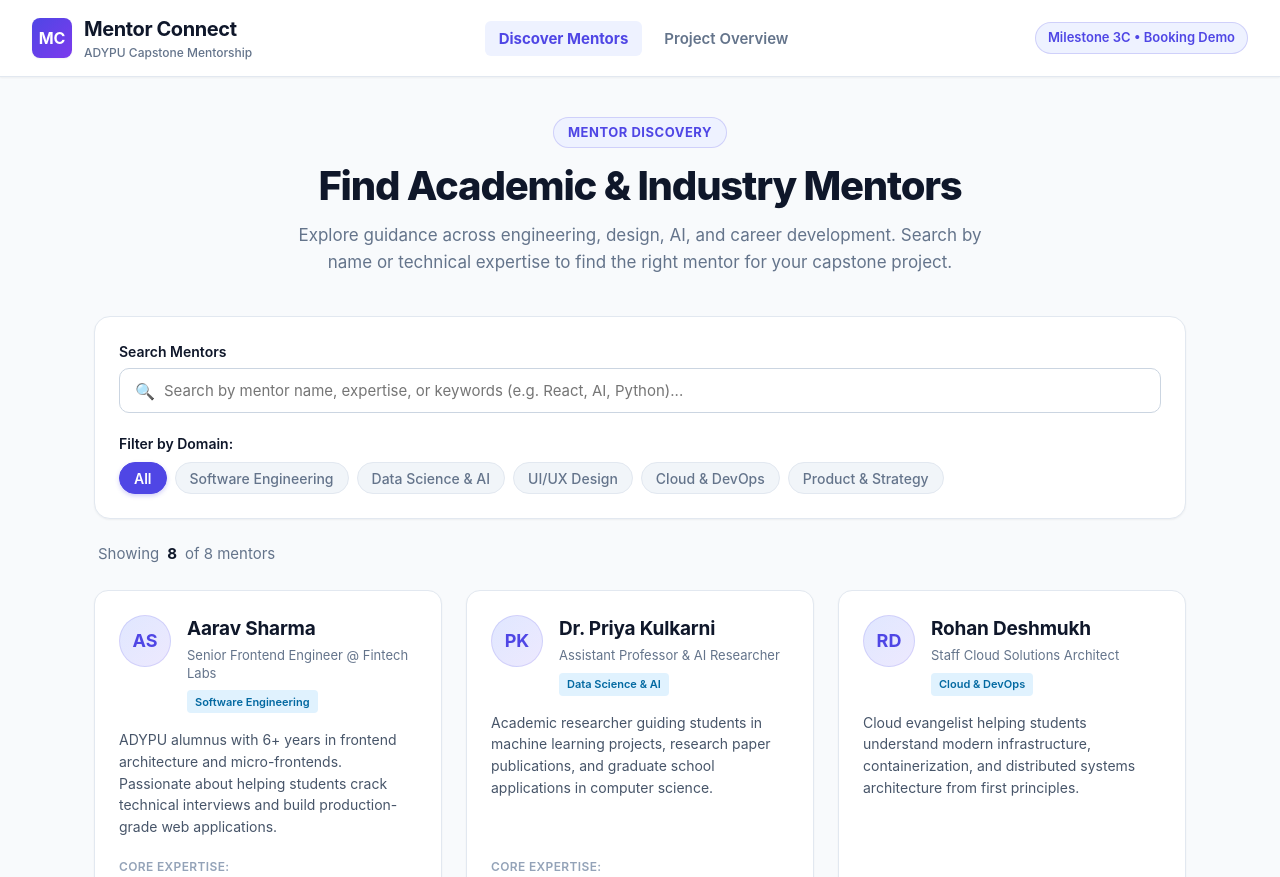
Test: Category Filtering › combines category filtering with keyword search concurrently
Note: Filter by Software Engineering (Aarav Sharma and Vikram Joshi)
Click the button "Software Engineering" at (262, 478), box [174,462,348,494]
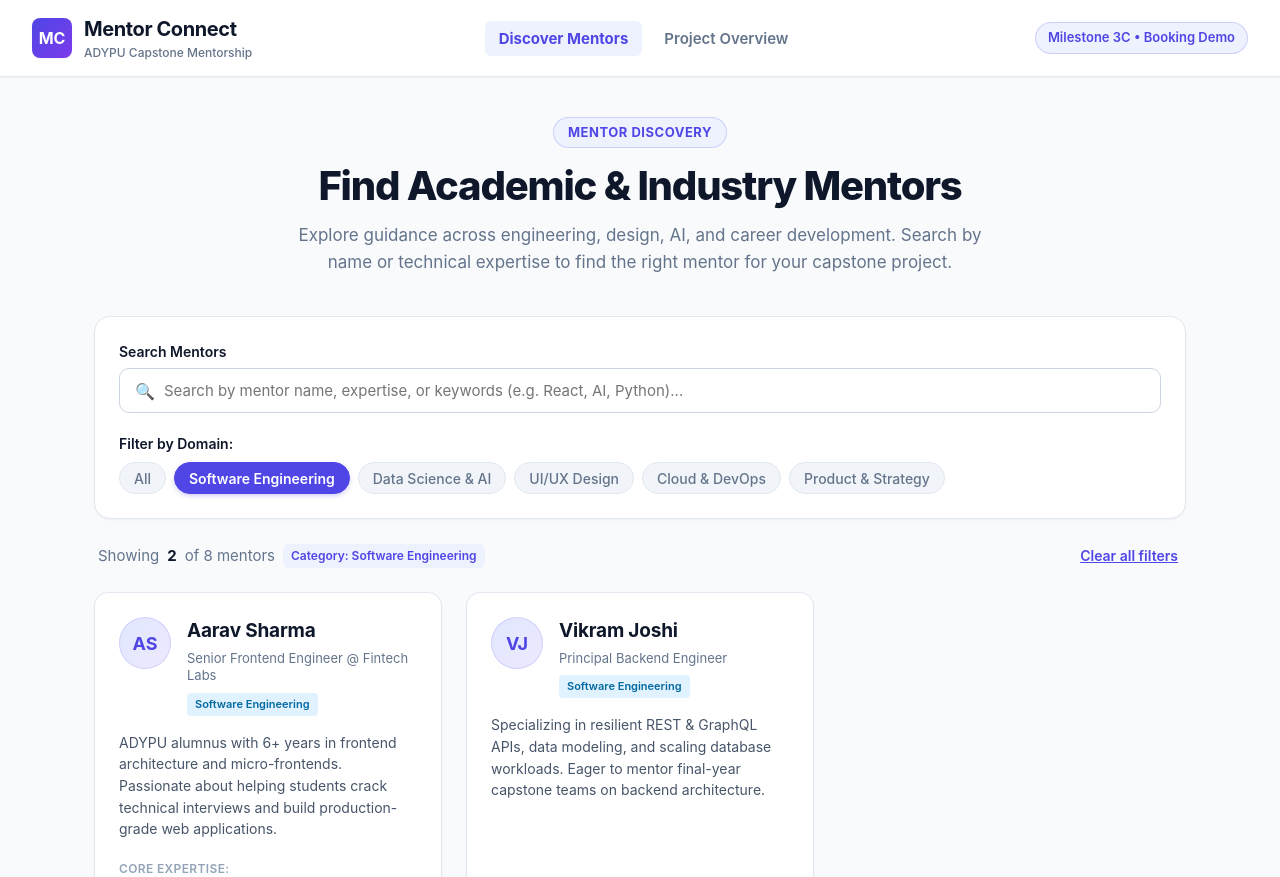
Expected: the element with class "results-count" shows "Showing 2 of 8 mentors", [98,544,485,568]
Note: Now search for 'React'
Replace the text in the search field labelled "Search Mentors" with "React" at (640, 391), box [119,368,1161,414]
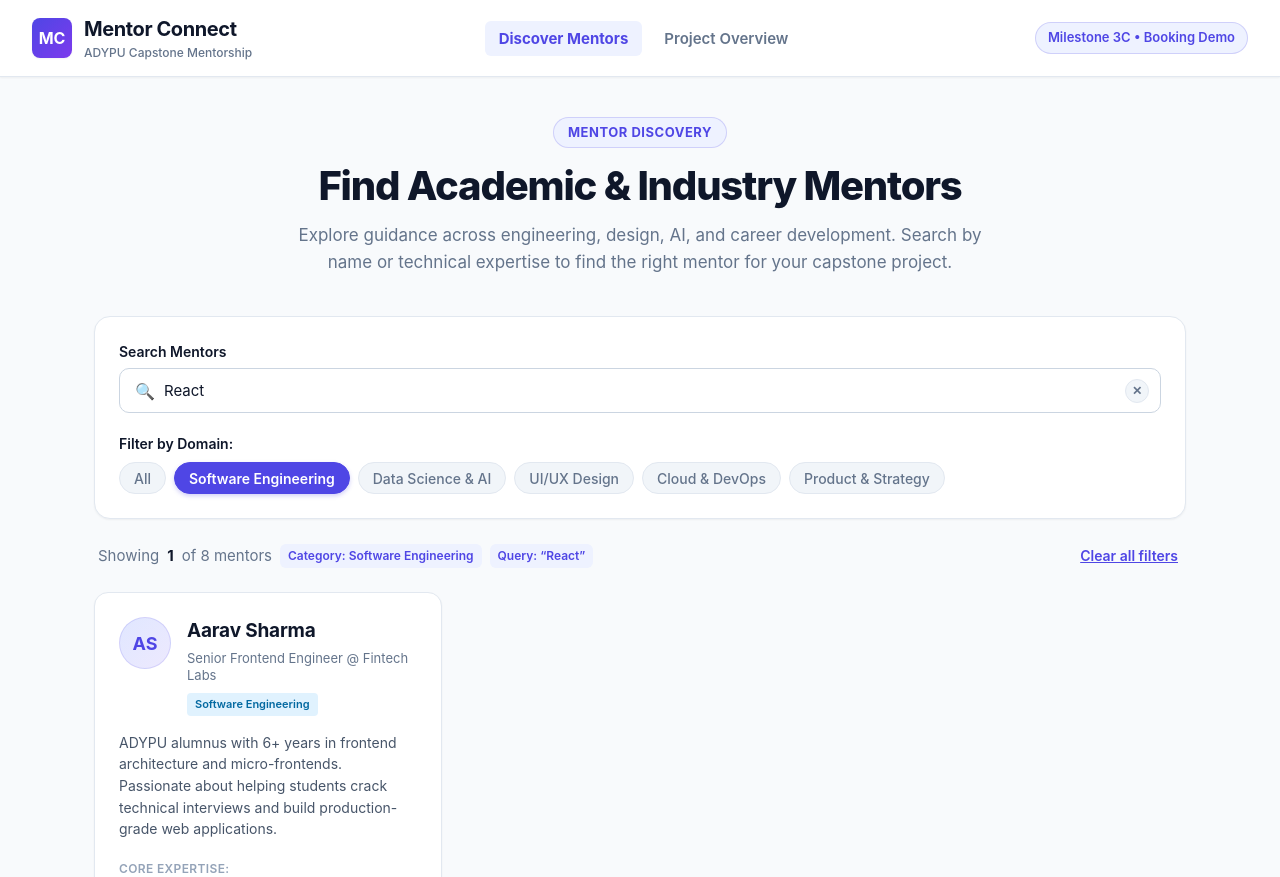
Expected: the heading "Aarav Sharma" is shown, [187,619,316,642]
Expected: the heading "Vikram Joshi" is gone
Expected: the element with class "results-count" shows "Showing 1 of 8 mentors", [98,544,593,568]
